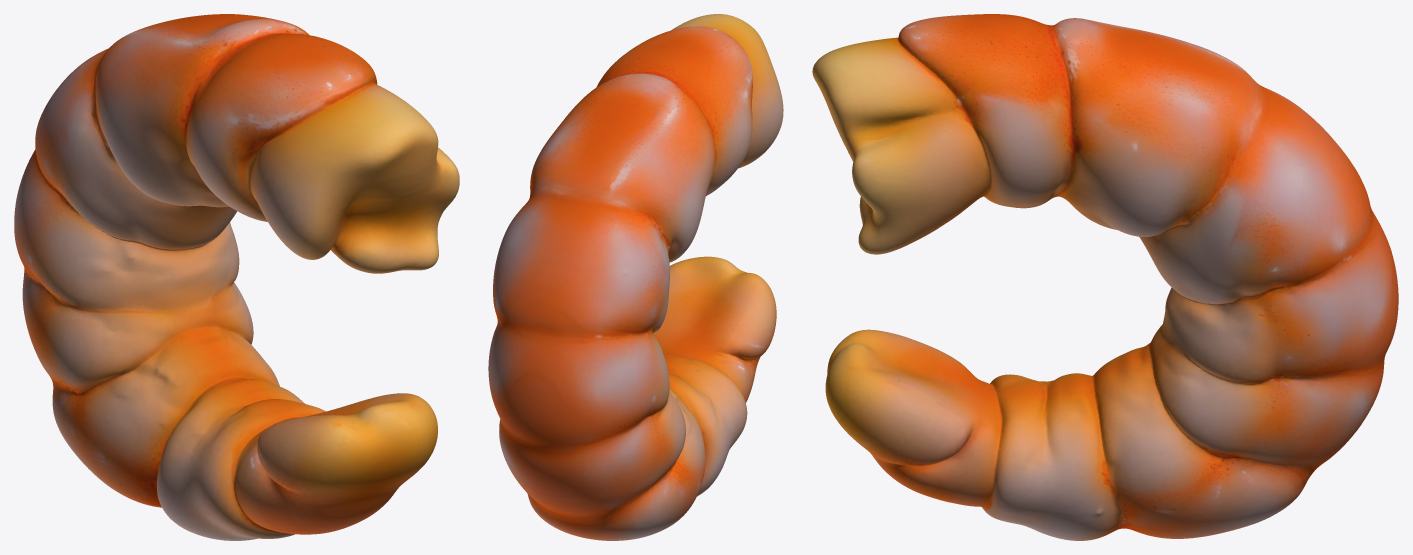
The model's file is tripo_convert_a772b022-14b6-49b0-83a9-79bec844c788.fbx.
3 views of the same model, side by side, from view 1: azimuth 30°, elevation 25°; view 2: azimuth 150°, elevation 25°; view 3: azimuth 270°, elevation 25° (orthographic). The views are drawn at different scales.
Visible parts, largest first — view 1: tripo_node_a772b022; view 2: tripo_node_a772b022; view 3: tripo_node_a772b022.
Boxes of the visible parts, x1,y1,x2,y2 form: tripo_node_a772b022: [14, 14, 459, 540]; tripo_node_a772b022: [488, 14, 783, 540]; tripo_node_a772b022: [812, 14, 1398, 540].
Bounding box in the file's own units: 0.4415 × 0.968 × 1.
